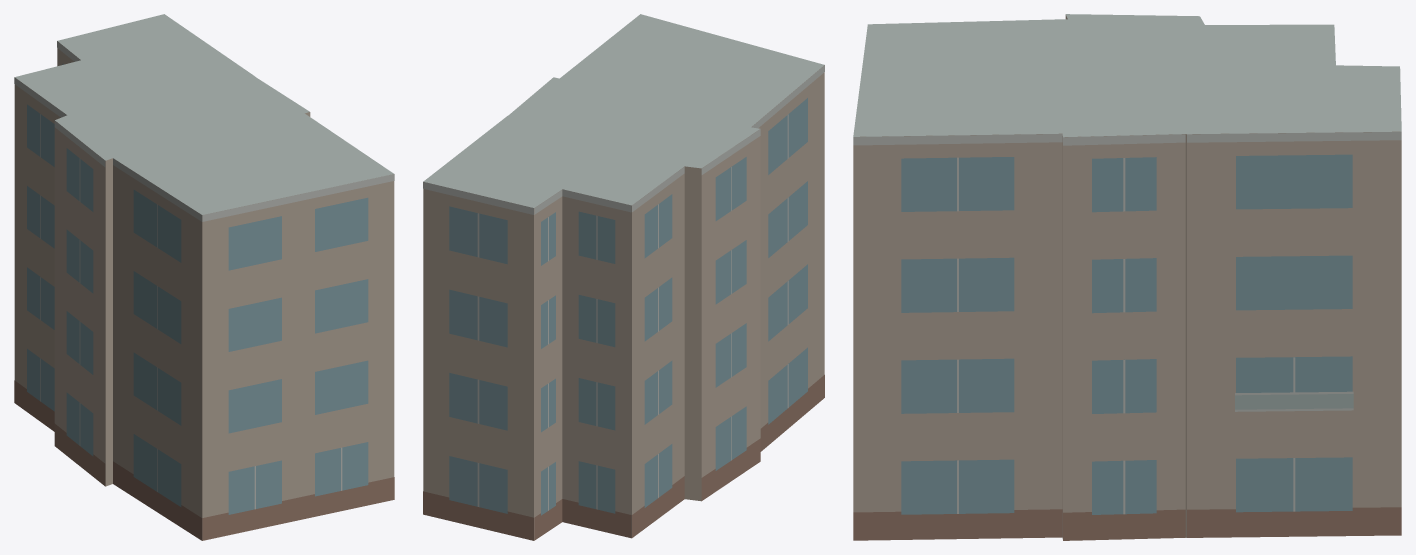
Rendered from survey-upis-33011482.glb.
3 views of the same model, side by side, from view 1: azimuth 30°, elevation 25°; view 2: azimuth 150°, elevation 25°; view 3: azimuth 270°, elevation 25° (orthographic). The views are drawn at different scales.
Parts seen in each view (by area): view 1: survey-upis-33011482.tmp; view 2: survey-upis-33011482.tmp; view 3: survey-upis-33011482.tmp.
Boxes of the visible parts, bbox=[...] form: survey-upis-33011482.tmp: bbox=[14, 14, 394, 540]; survey-upis-33011482.tmp: bbox=[423, 14, 824, 540]; survey-upis-33011482.tmp: bbox=[853, 14, 1401, 540].
Size of the model in its own units: 7.53 by 11.5 by 14.17.
